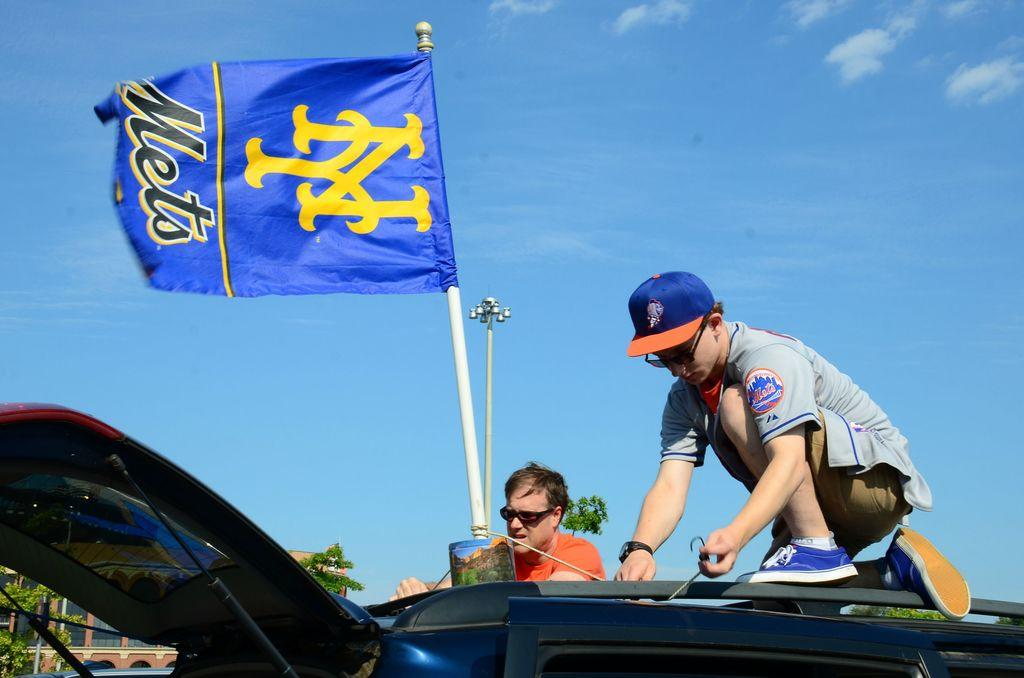Car: (0, 403, 1023, 677)
